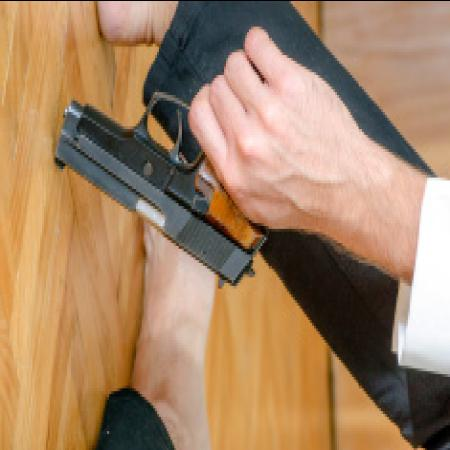Pistol: (56, 59, 272, 288)
